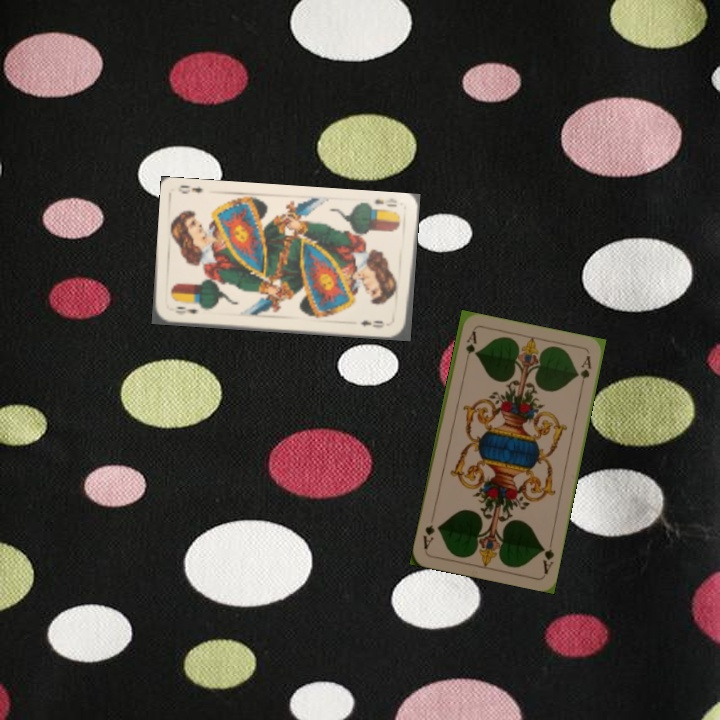EO: (171, 302, 200, 318), (371, 195, 400, 209)
GA: (538, 535, 556, 576), (461, 327, 479, 367)
